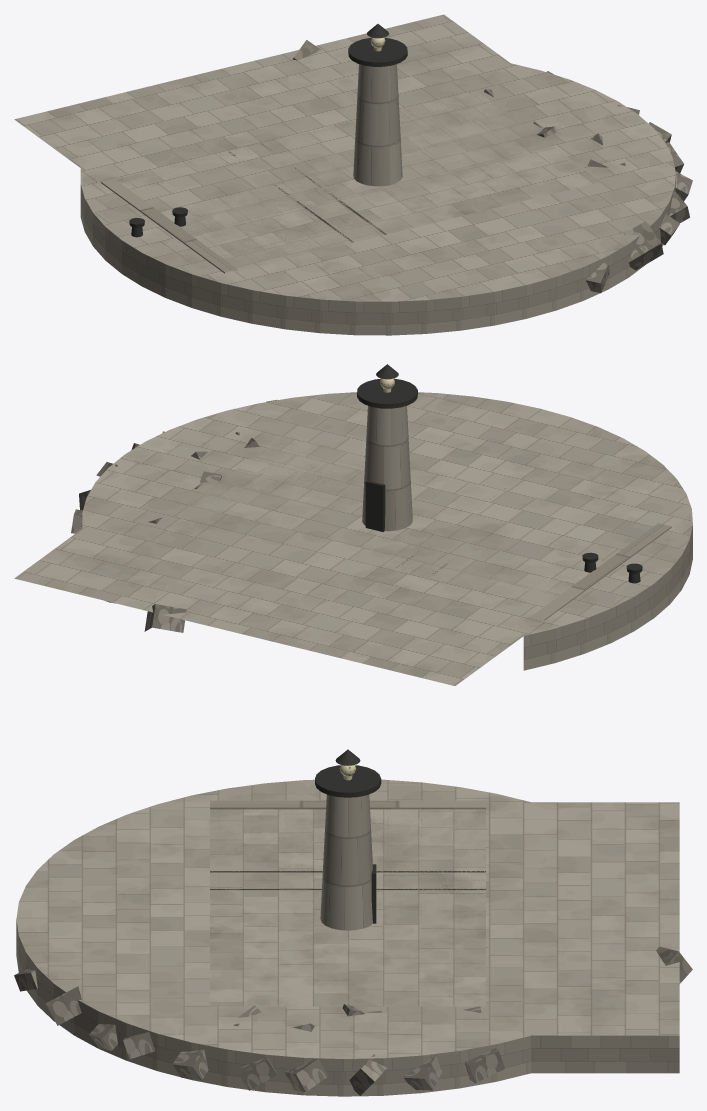
File: mole.glb
The picture shows the model from 3 angles, top to bottom: view 1: azimuth 30°, elevation 25°; view 2: azimuth 150°, elevation 25°; view 3: azimuth 270°, elevation 25°; orthographic projection. The views are drawn at different scales.
Parts seen in each view (by area): view 1: mole_tete, mole_troncon; view 2: mole_tete, mole_troncon; view 3: mole_tete, mole_troncon.
Boxes of the visible parts, x1=… form: mole_tete: x1=14, y1=14, x2=692, y2=335; mole_troncon: x1=101, y1=89, x2=625, y2=273; mole_tete: x1=14, y1=364, x2=692, y2=685; mole_troncon: x1=148, y1=432, x2=671, y2=620; mole_tete: x1=14, y1=749, x2=692, y2=1096; mole_troncon: x1=210, y1=800, x2=485, y2=1031.
Size of the model in its own units: 24.66 by 8.28 by 24.58.
5 materials, 5 textured.
